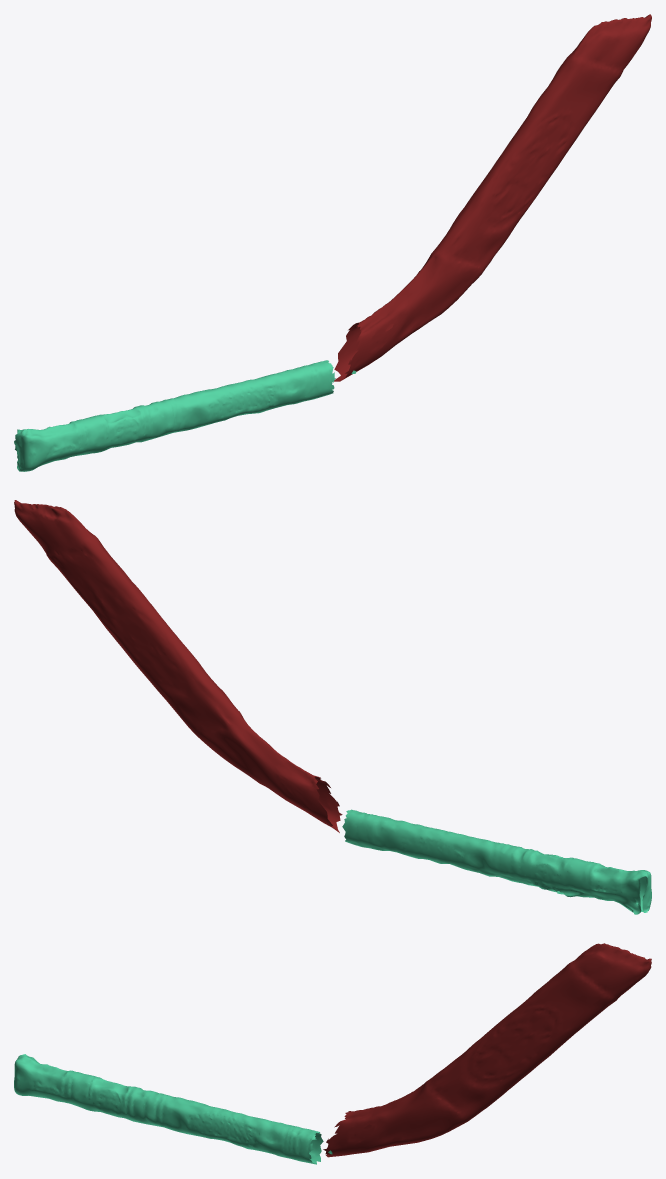
File: object_deformed_8.obj
3 views of the same model, one above another, from view 1: azimuth 30°, elevation 25°; view 2: azimuth 150°, elevation 25°; view 3: azimuth 330°, elevation 25° (orthographic). The views are drawn at different scales.
Bounding box in the file's own units: 0.8538 × 0.3671 × 0.0668.
